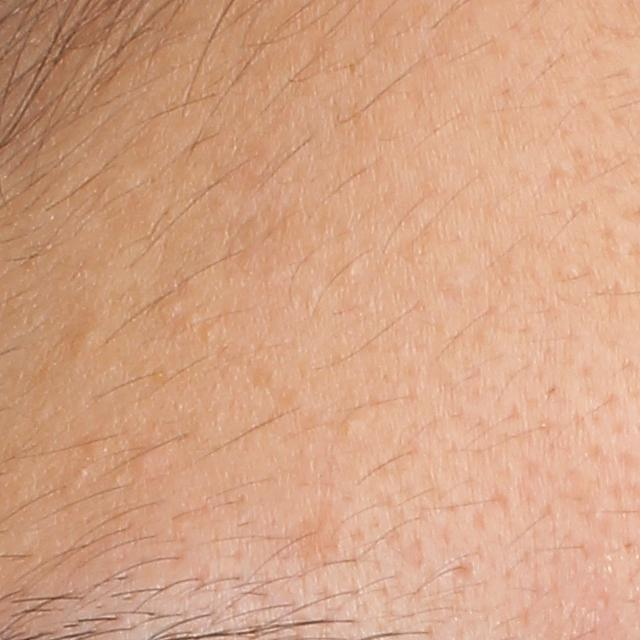comedo: (69, 327, 101, 354), (345, 257, 365, 280), (344, 412, 362, 437), (76, 465, 88, 477)
